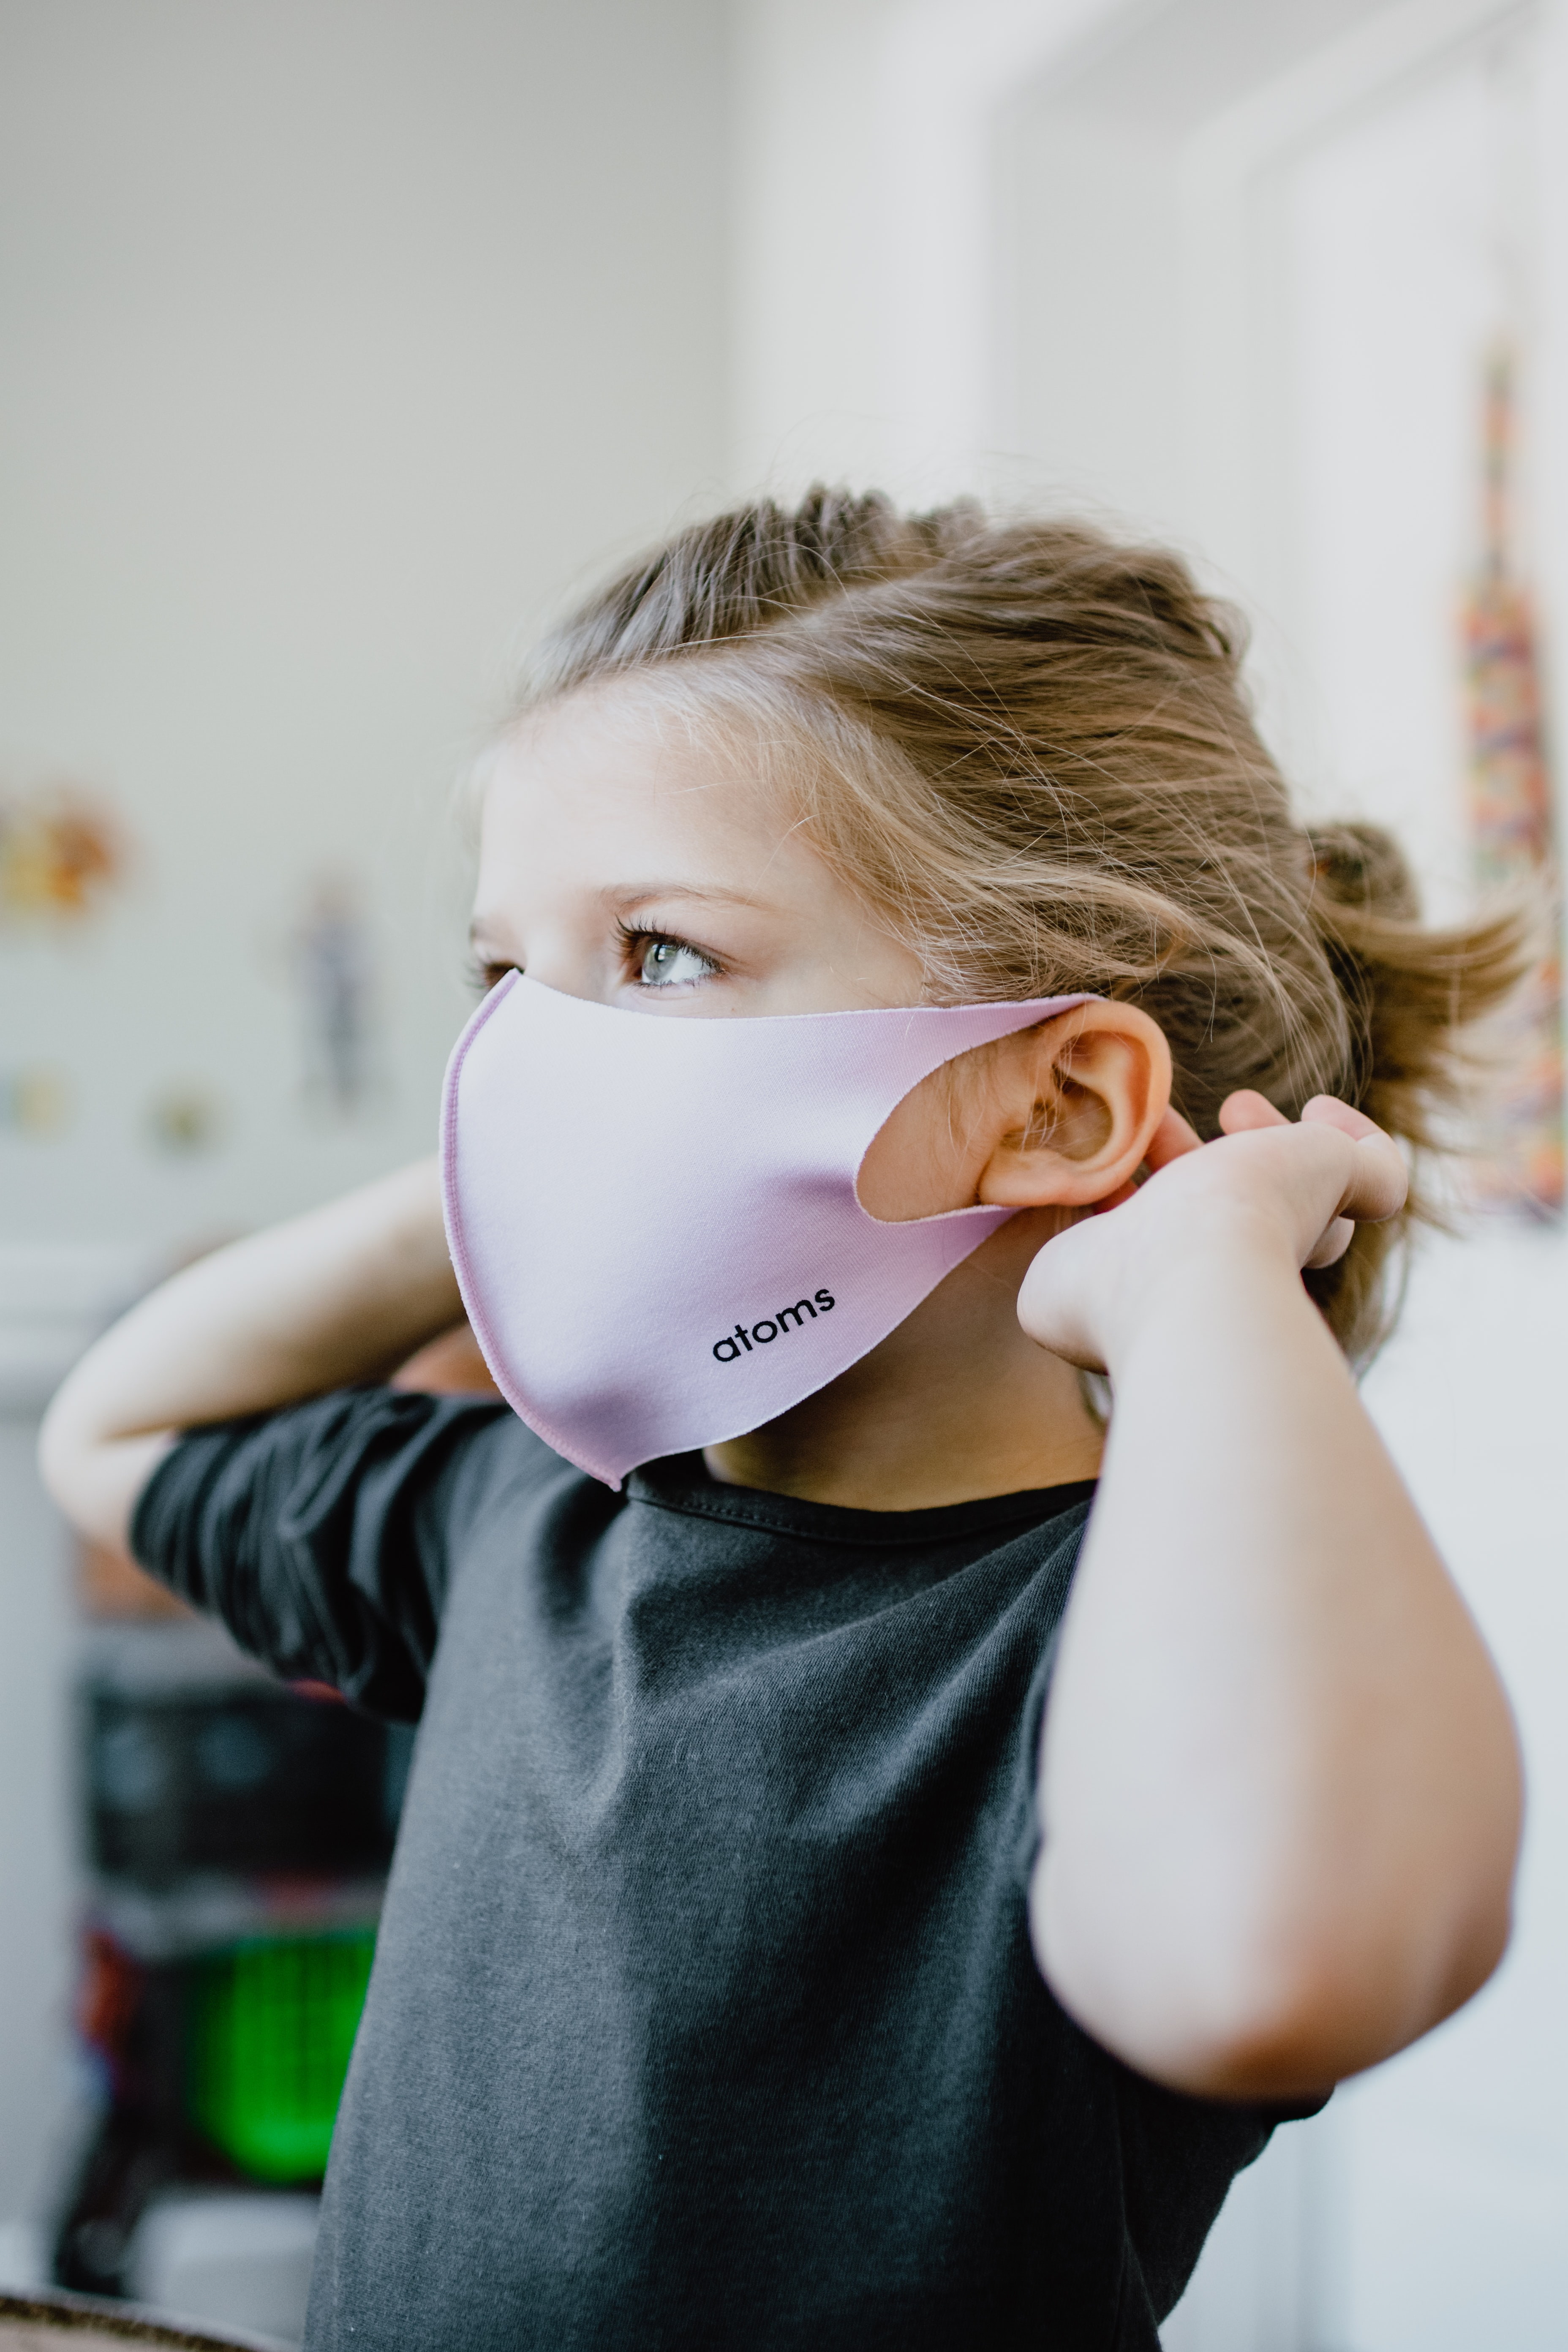mask: (414, 964, 1088, 1489)
person: (45, 517, 1513, 2352)
